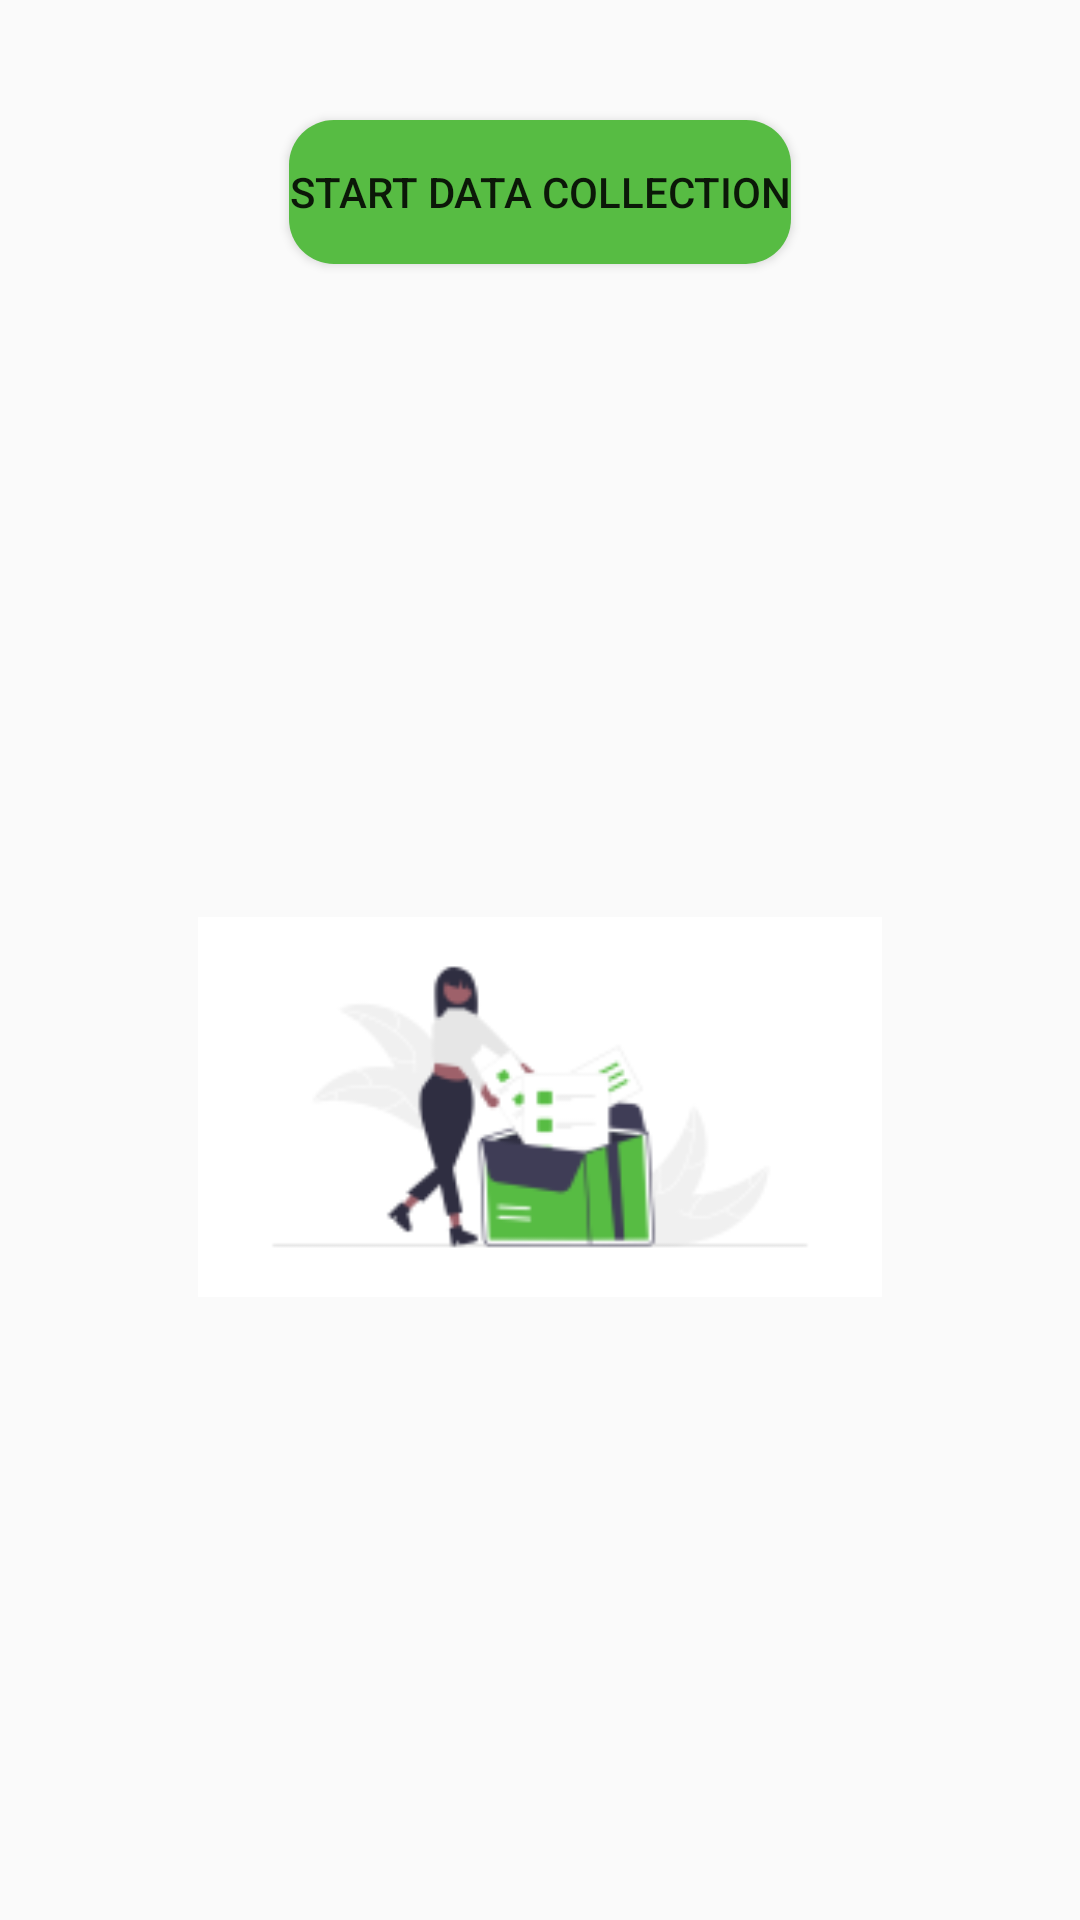

Screen size 1080 x 1920. Icon name, then its box in pixels as (x1, y1, x2, y2):
datacollection: (387, 966, 680, 1248)
